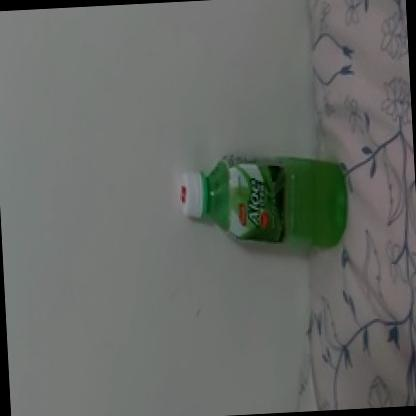plastic_bottles: (162, 147, 358, 259)
